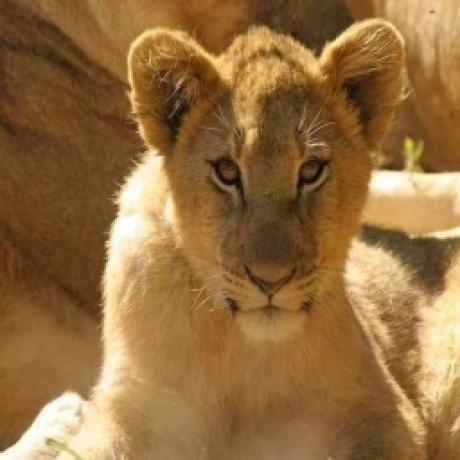Lion: (100, 14, 432, 460)
